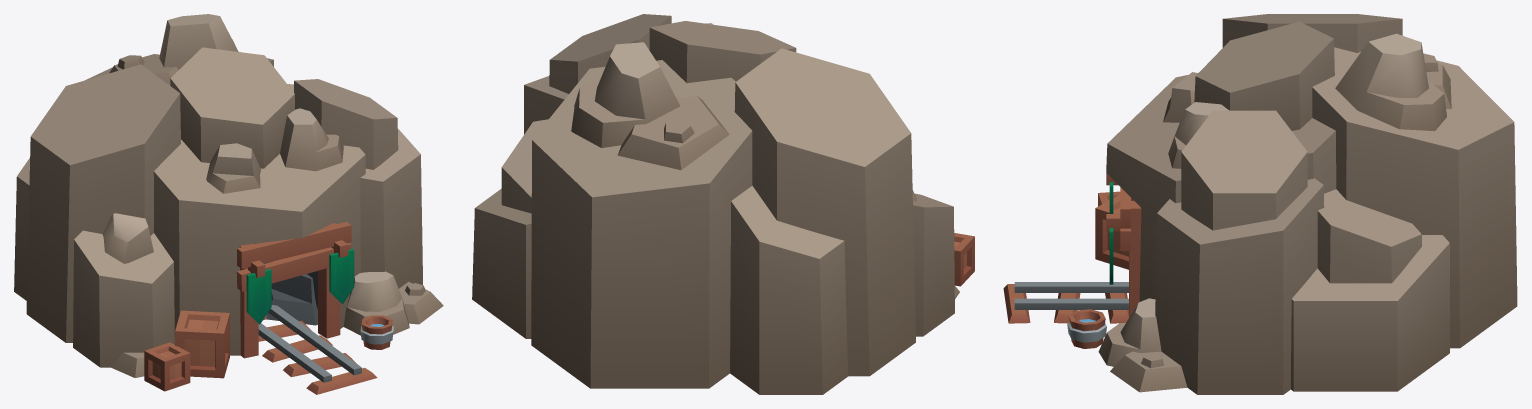
The model's file is mine_green.glb.
3 views of the same model, side by side, from view 1: azimuth 30°, elevation 25°; view 2: azimuth 150°, elevation 25°; view 3: azimuth 270°, elevation 25° (orthographic). The views are drawn at different scales.
Visible parts, largest first — view 1: mine_green; view 2: mine_green; view 3: mine_green.
Part boxes in pixels (bbox=[...]): mine_green: bbox=[14, 14, 443, 394]; mine_green: bbox=[472, 14, 974, 394]; mine_green: bbox=[1003, 14, 1517, 394].
Size of the model in its own units: 0.8028 by 0.5683 by 0.96.
Materials: 1 (1 with a texture image).
